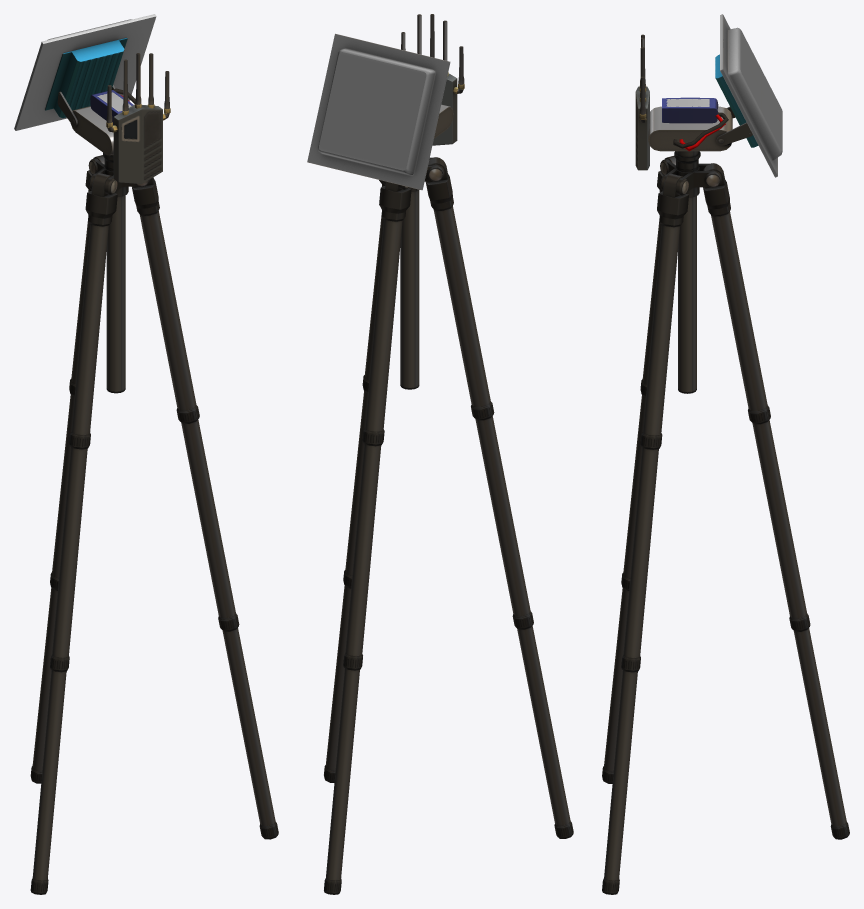
File: antenna.dae
3 views of the same model, side by side, from view 1: azimuth 30°, elevation 25°; view 2: azimuth 150°, elevation 25°; view 3: azimuth 270°, elevation 25° (orthographic).
Parts seen in each view (by area): view 1: Antenna; view 2: Antenna; view 3: Antenna.
Part boxes in pixels (bbox=[...]): Antenna: bbox=[14, 14, 278, 894]; Antenna: bbox=[307, 14, 573, 894]; Antenna: bbox=[602, 14, 849, 894].
Bounding box in the file's own units: 60.67 × 53.09 × 189.
